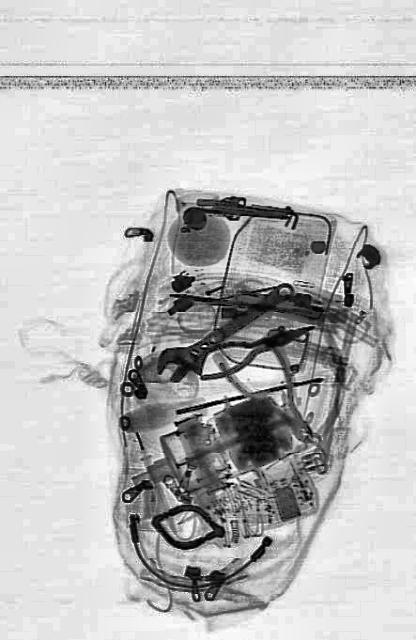Pliers: (217, 313, 327, 469), (193, 308, 316, 384)
Wrench: (151, 267, 295, 391)
